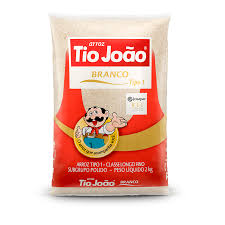arroz: (42, 9, 176, 198)
